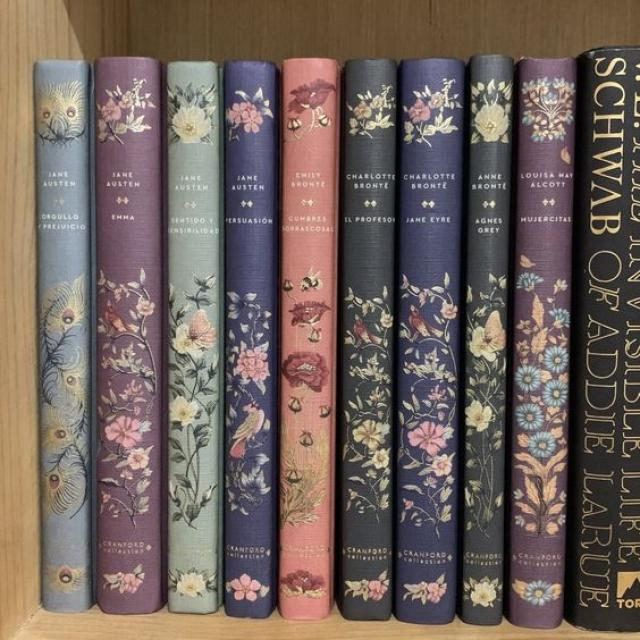book: (92, 58, 163, 613), (576, 49, 640, 633), (398, 59, 464, 625), (509, 59, 574, 627), (276, 57, 337, 620), (340, 58, 400, 623), (37, 58, 95, 613), (460, 55, 516, 627), (166, 63, 219, 615), (224, 61, 276, 619)
